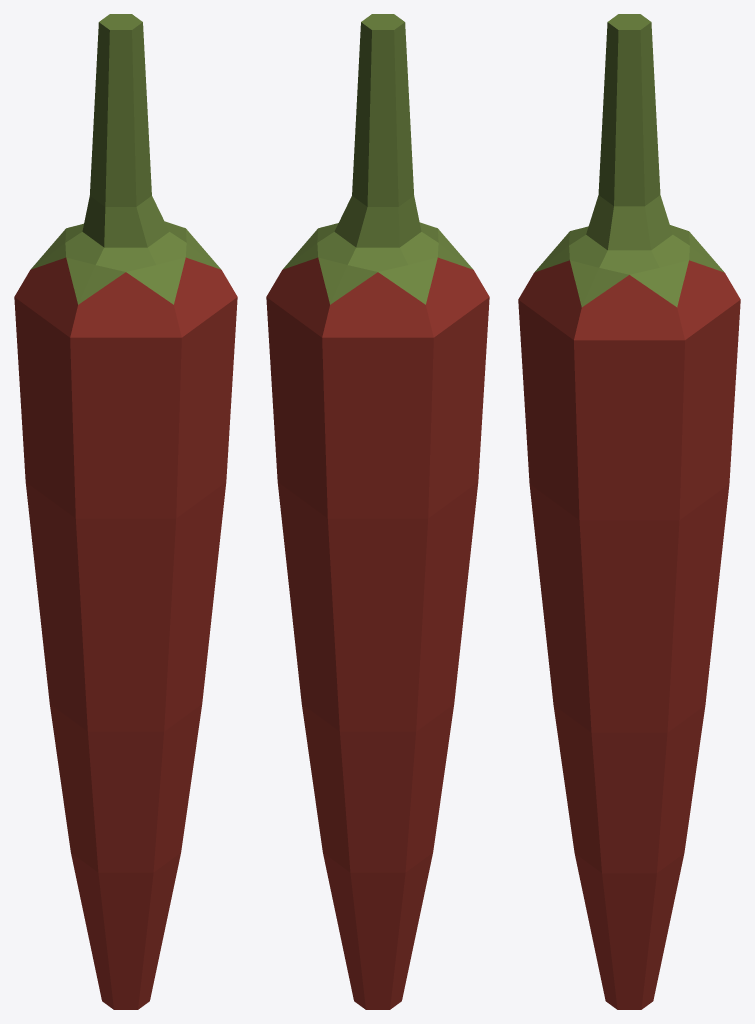
The model's file is SM_Envr_Nature_Farm_Vegetable_Chili_01.fbx.
3 renders of one model, left to right at view 1: azimuth 30°, elevation 25°; view 2: azimuth 150°, elevation 25°; view 3: azimuth 270°, elevation 25°, orthographic.
Parts seen in each view (by area): view 1: SM_Envr_Nature_Farm_Vegetable_Chili_01; view 2: SM_Envr_Nature_Farm_Vegetable_Chili_01; view 3: SM_Envr_Nature_Farm_Vegetable_Chili_01.
Boxes of the visible parts, x1=… form: SM_Envr_Nature_Farm_Vegetable_Chili_01: x1=14, y1=14, x2=237, y2=1009; SM_Envr_Nature_Farm_Vegetable_Chili_01: x1=266, y1=14, x2=489, y2=1009; SM_Envr_Nature_Farm_Vegetable_Chili_01: x1=518, y1=14, x2=740, y2=1009.
Bounding box in the file's own units: 2.42 × 13.56 × 2.8.
